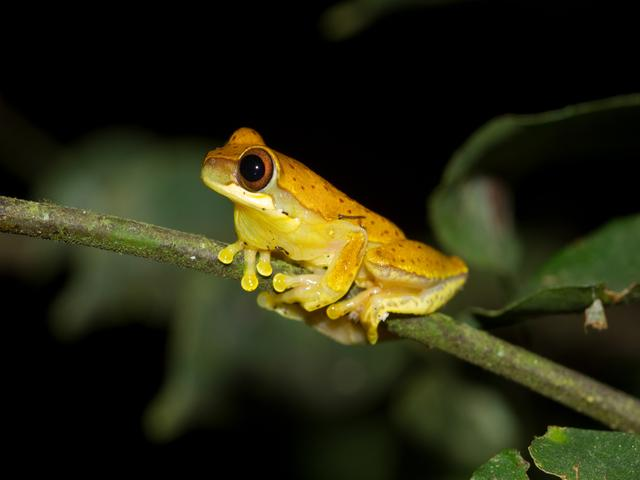frog: (170, 105, 500, 332)
